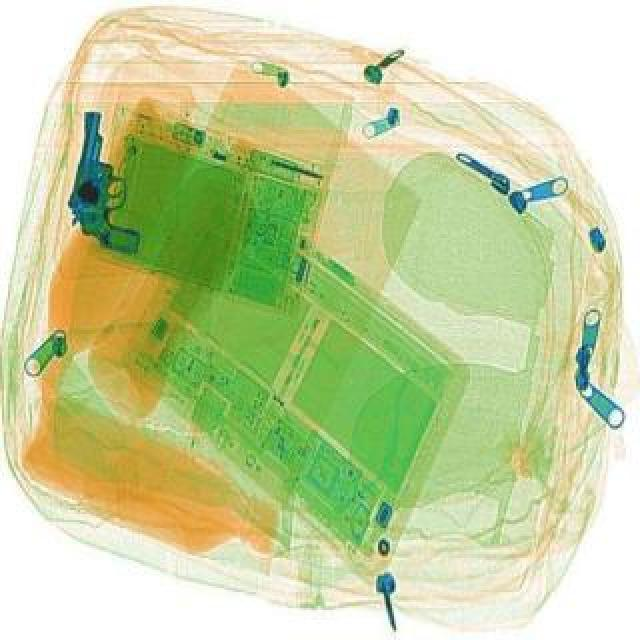gun: (58, 112, 158, 258)
